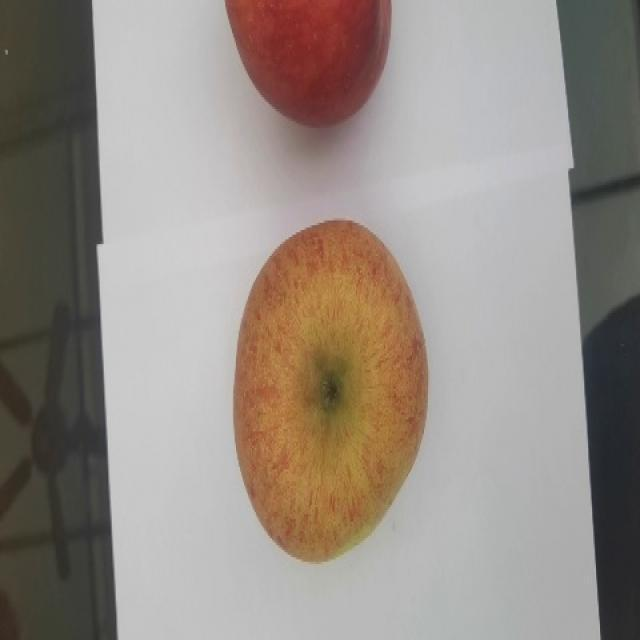Apple: (233, 218, 432, 570), (223, 0, 393, 129)
